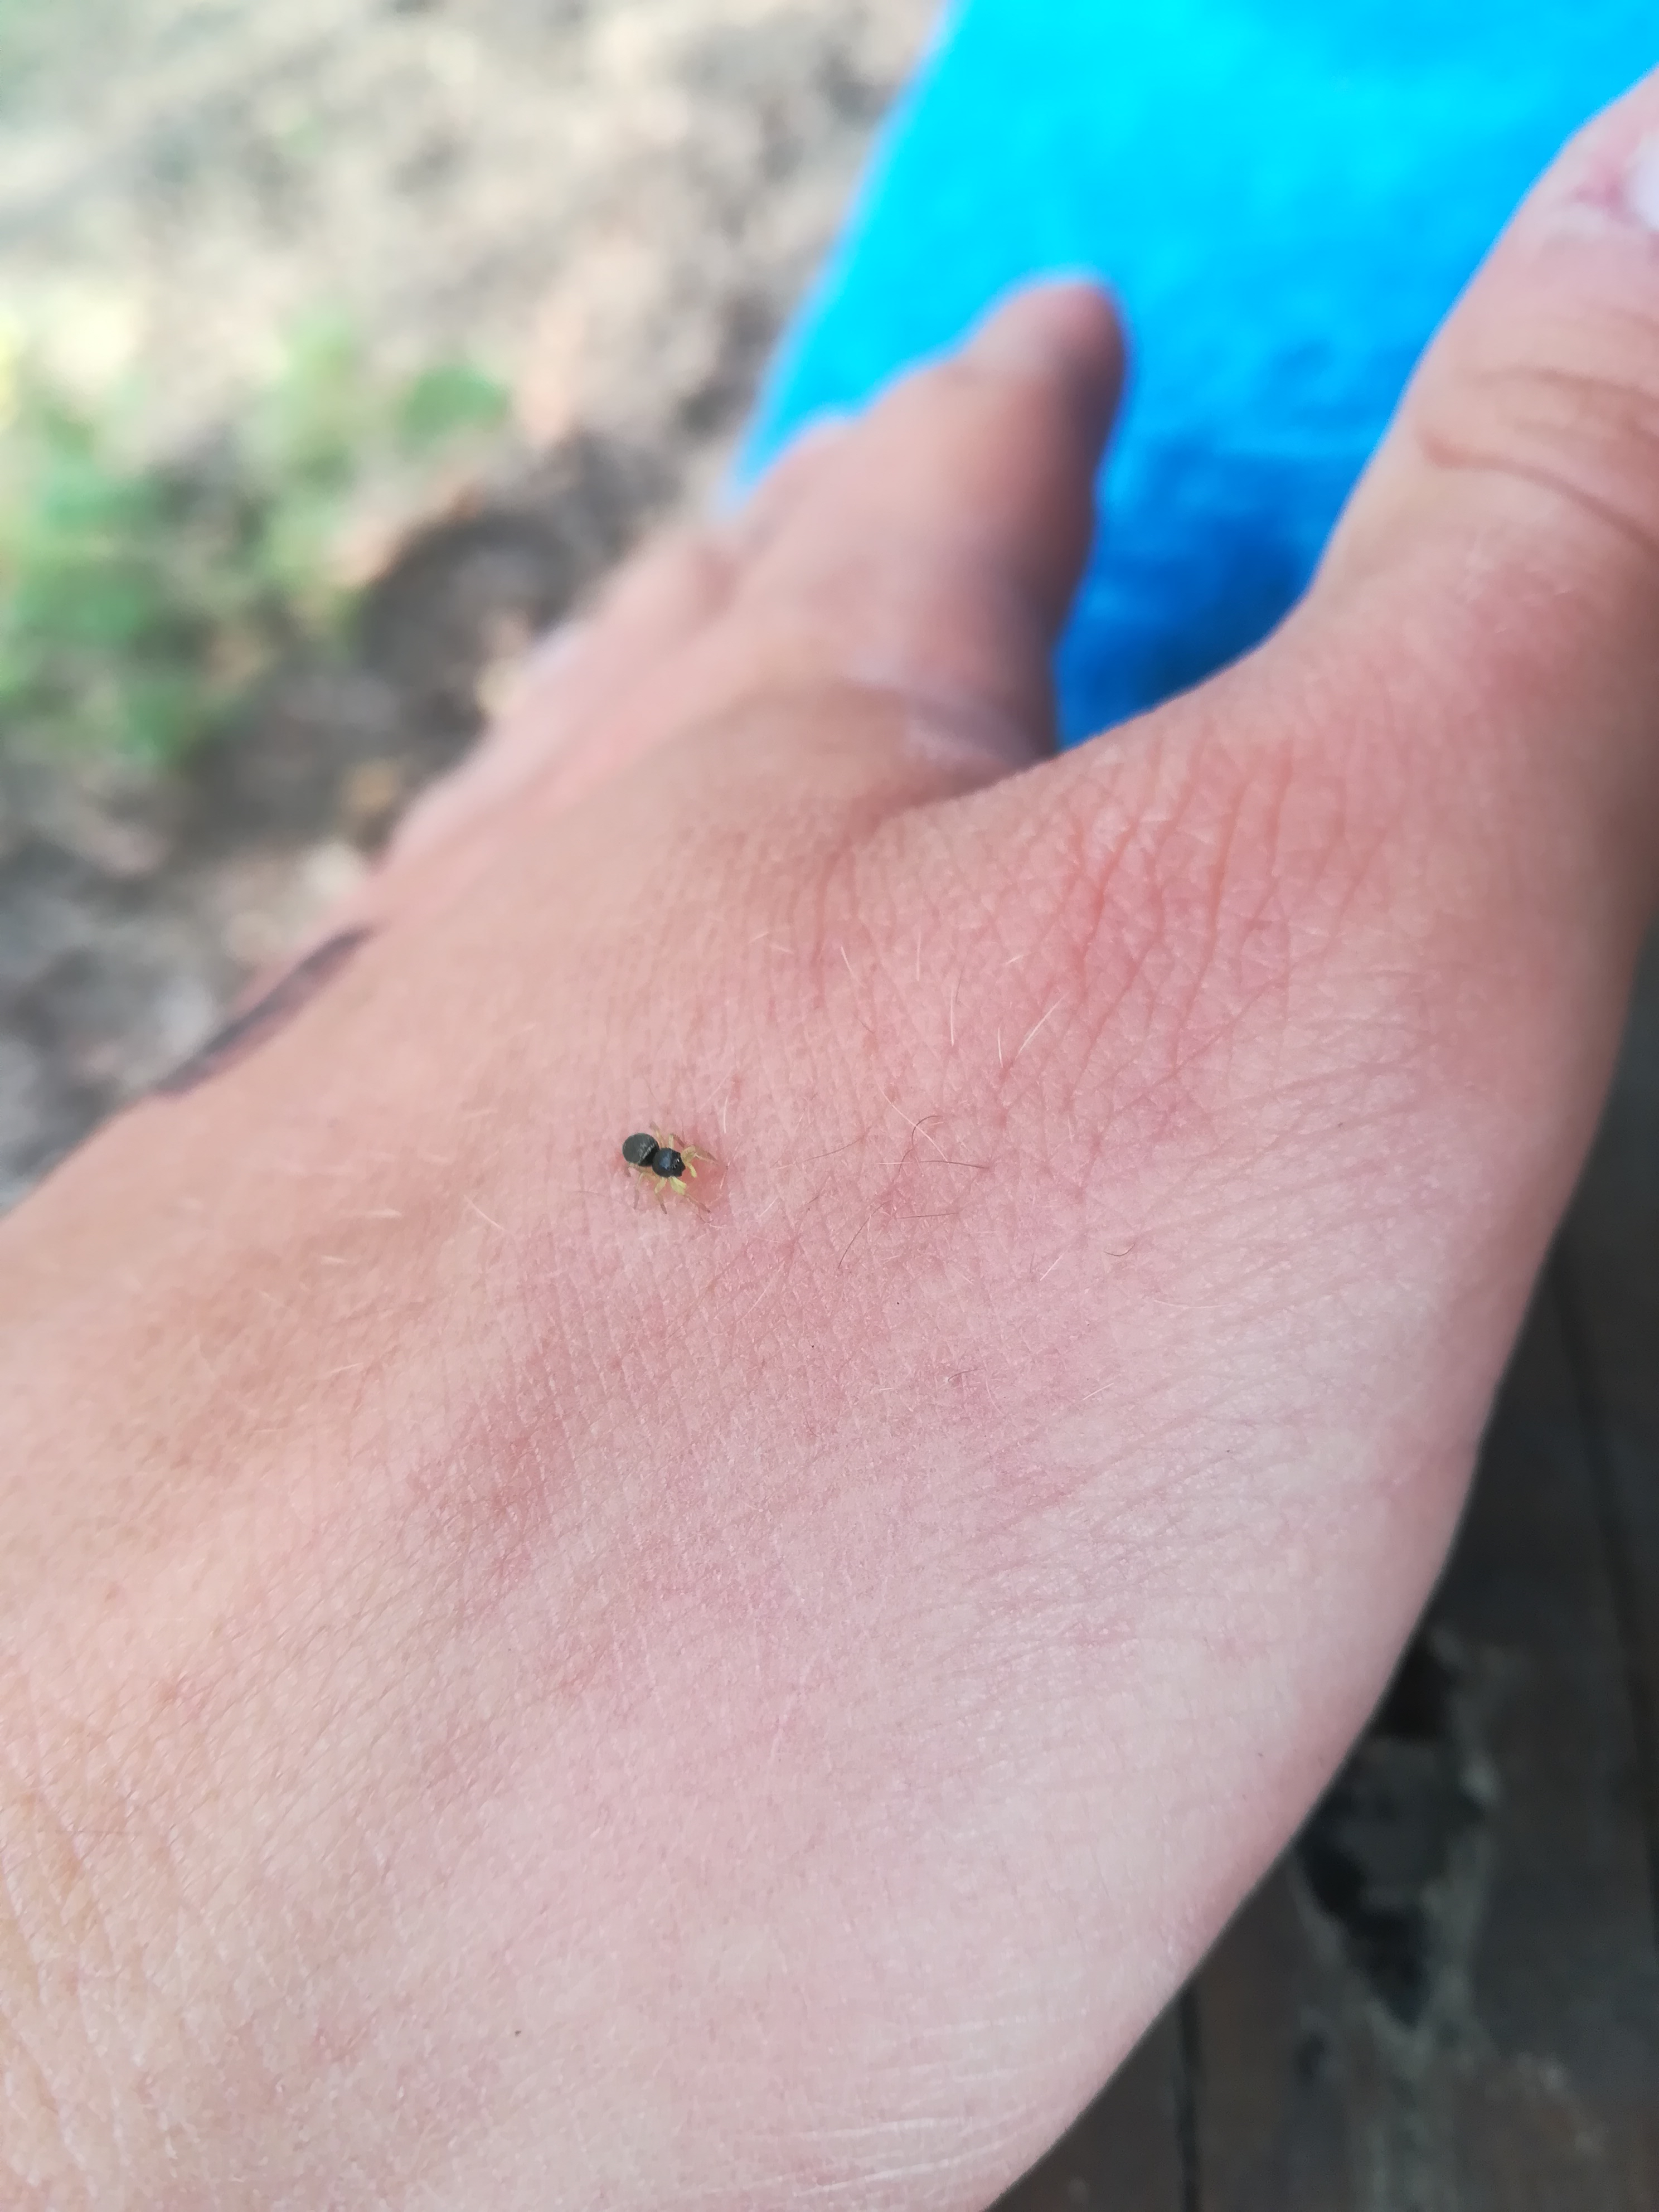spider: (605, 1096, 739, 1252)
